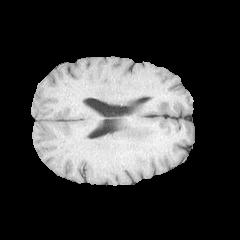glioma: (117, 124, 155, 148)
